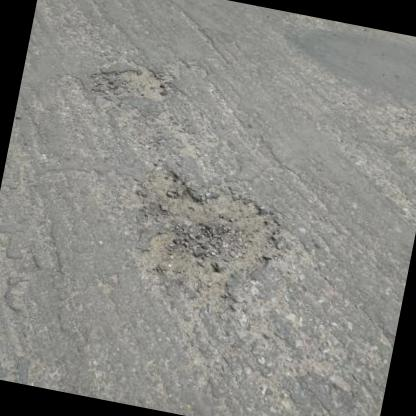pothole: (122, 161, 288, 315), (82, 53, 174, 110)
